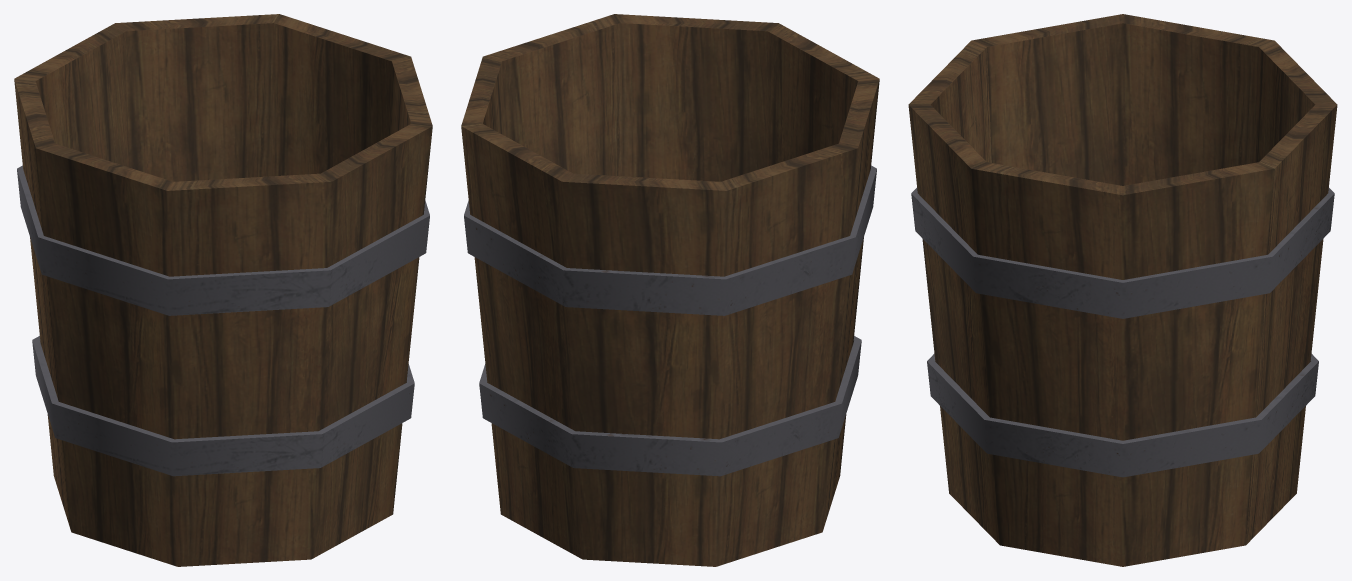
File: Bucket.glb
3 views of the same model, side by side, from view 1: azimuth 30°, elevation 25°; view 2: azimuth 150°, elevation 25°; view 3: azimuth 270°, elevation 25° (orthographic).
Visible parts, largest first — view 1: Object_10.042, Object_10.039, Object_10.030, Object_10.019, Object_10.010, Object_10.028, Object_10.014, Object_10.018, Object_10.017, Object_10.013, Object_10.015, Object_10.011 (+2 smaller); view 2: Object_10.042, Object_10.039, Object_10.030, Object_10.019, Object_10.010, Object_10.028, Object_10.011, Object_10.015, Object_10.016, Object_10.012, Object_10.018, Object_10.014 (+2 smaller); view 3: Object_10.042, Object_10.039, Object_10.030, Object_10.019, Object_10.010, Object_10.028, Object_10.012, Object_10.013, Object_10.016, Object_10.017, Object_10.015, Object_10.018 (+2 smaller).
Part boxes in pixels (left/top/right/bottom): Object_10.042: left=14, top=80, right=432, bottom=566; Object_10.039: left=35, top=23, right=410, bottom=181; Object_10.030: left=17, top=170, right=429, bottom=315; Object_10.019: left=32, top=341, right=414, bottom=476; Object_10.010: left=32, top=336, right=414, bottom=442; Object_10.028: left=17, top=165, right=429, bottom=279; Object_10.014: left=167, top=173, right=330, bottom=190; Object_10.018: left=115, top=14, right=279, bottom=31; Object_10.017: left=274, top=14, right=410, bottom=61; Object_10.013: left=36, top=143, right=172, bottom=190; Object_10.015: left=321, top=123, right=432, bottom=181; Object_10.011: left=14, top=23, right=125, bottom=80; Object_10.042: left=461, top=80, right=879, bottom=566; Object_10.039: left=483, top=23, right=858, bottom=181; Object_10.030: left=464, top=170, right=876, bottom=315; Object_10.019: left=479, top=341, right=861, bottom=476; Object_10.010: left=479, top=336, right=861, bottom=442; Object_10.028: left=464, top=165, right=876, bottom=279; Object_10.011: left=563, top=173, right=726, bottom=190; Object_10.015: left=614, top=14, right=778, bottom=31; Object_10.016: left=483, top=14, right=619, bottom=61; Object_10.012: left=721, top=143, right=857, bottom=190; Object_10.018: left=461, top=123, right=572, bottom=181; Object_10.014: left=768, top=23, right=879, bottom=80; Object_10.042: left=908, top=105, right=1337, bottom=566; Object_10.039: left=930, top=23, right=1315, bottom=185; Object_10.030: left=911, top=194, right=1334, bottom=318; Object_10.019: left=927, top=361, right=1318, bottom=477; Object_10.010: left=927, top=353, right=1318, bottom=443; Object_10.028: left=911, top=188, right=1334, bottom=282; Object_10.012: left=1123, top=14, right=1273, bottom=46; Object_10.013: left=972, top=14, right=1122, bottom=46; Object_10.016: left=972, top=162, right=1122, bottom=195; Object_10.017: left=1123, top=162, right=1273, bottom=195; Object_10.015: left=909, top=104, right=986, bottom=168; Object_10.018: left=1259, top=104, right=1336, bottom=168.
Size of the model in its own units: 0.051 by 0.051 by 0.051.
1 material, 1 textured.
